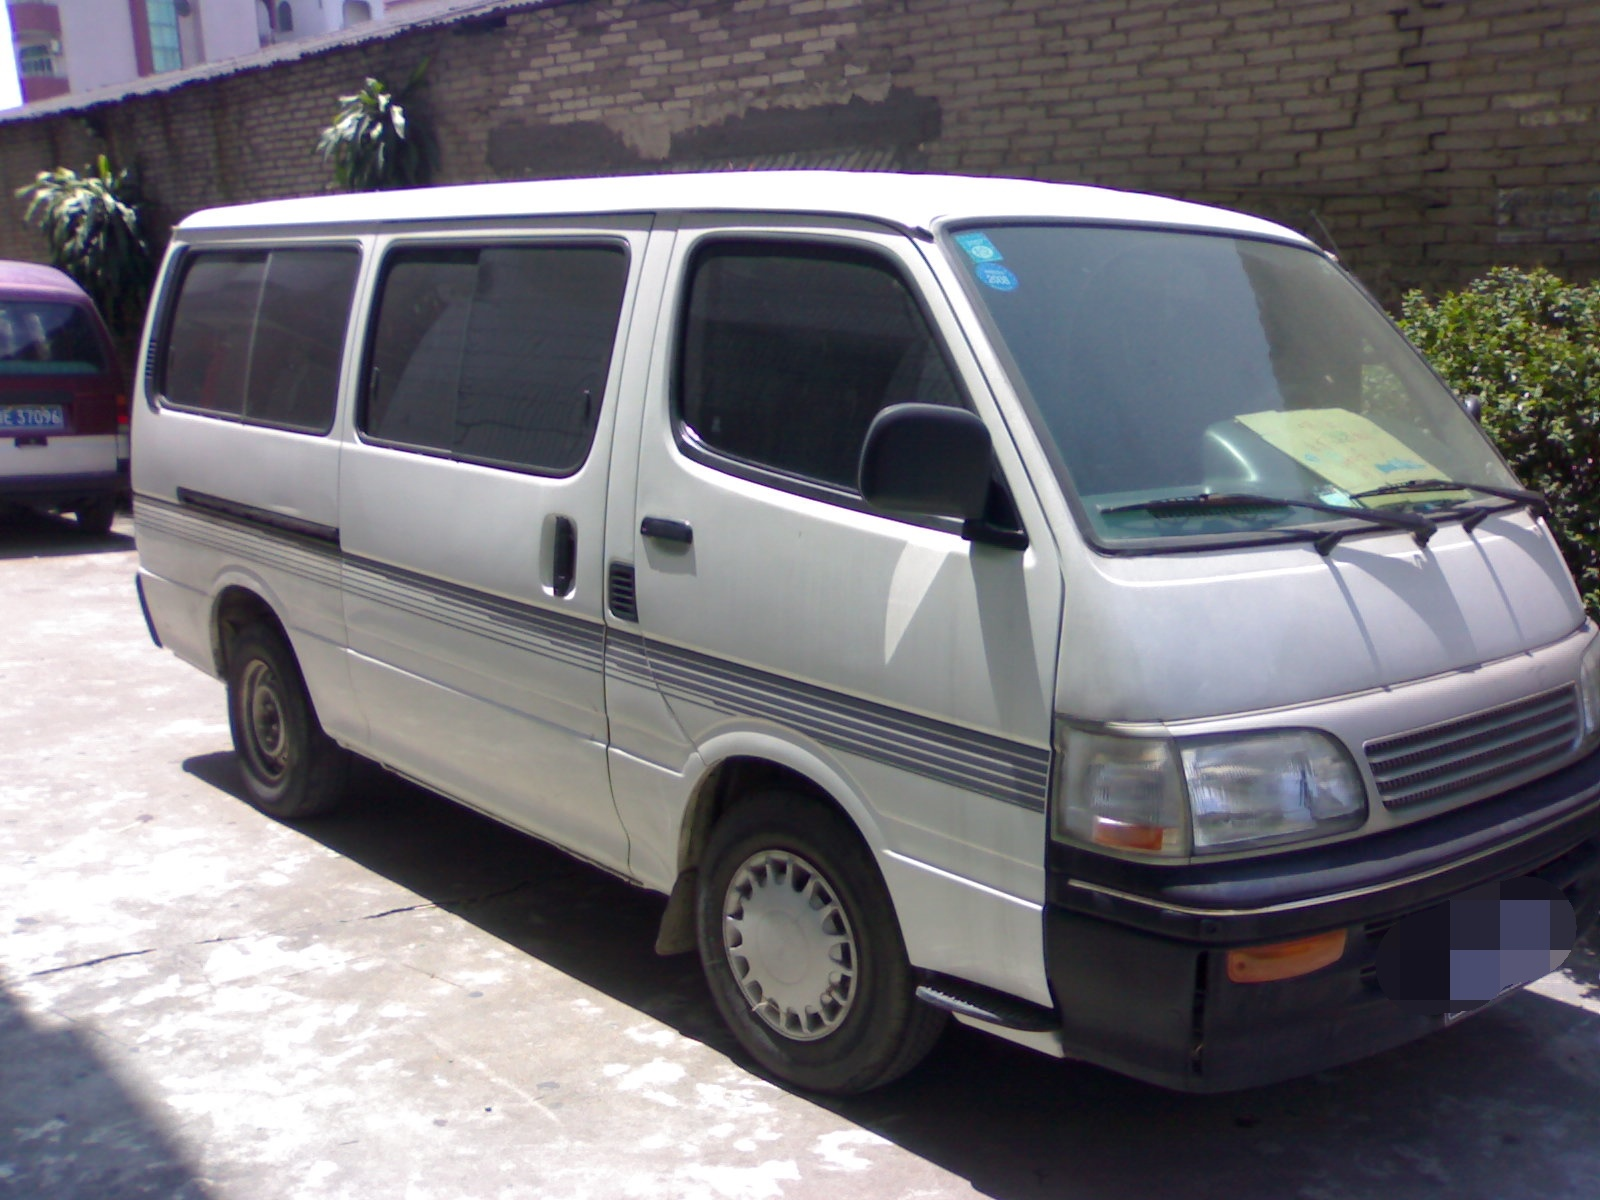minibus: (108, 142, 1561, 1127)
